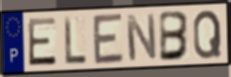B: (159, 10, 191, 63)
E: (91, 11, 126, 67), (26, 16, 58, 68)
L: (62, 15, 88, 67)
N: (124, 13, 159, 63)
Q: (192, 8, 224, 61)
